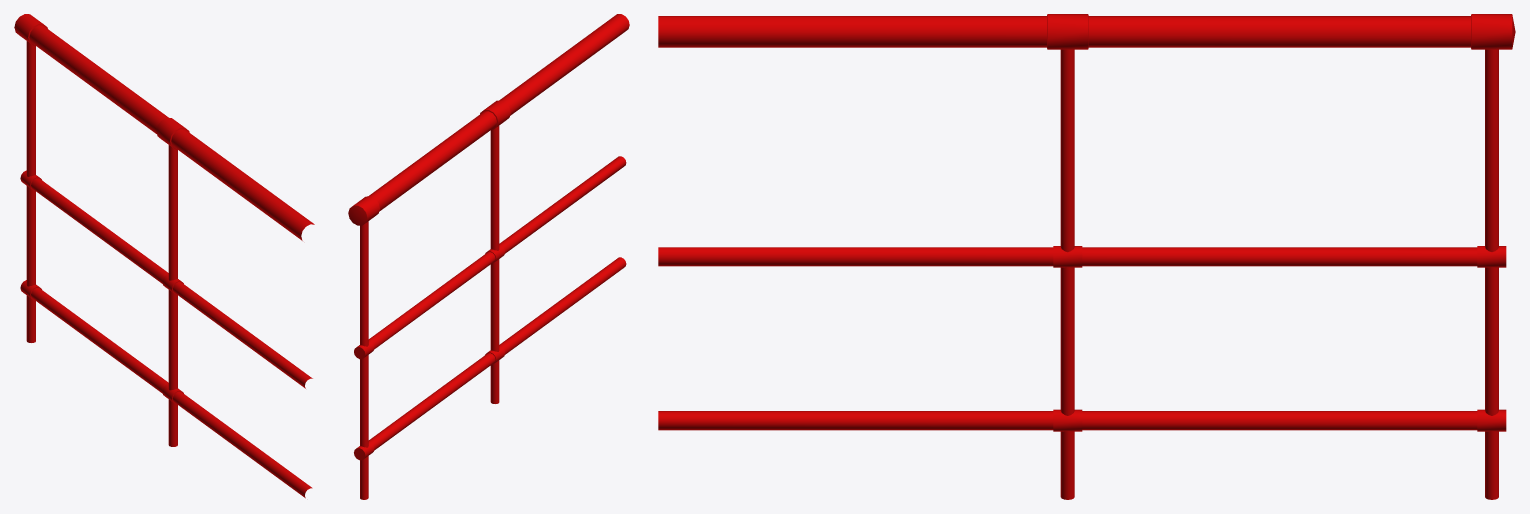
3 renders of one model, left to right at view 1: azimuth 30°, elevation 25°; view 2: azimuth 150°, elevation 25°; view 3: azimuth 270°, elevation 25°, orthographic. The views are drawn at different scales.
Parts seen in each view (by area): view 1: Mesh; view 2: Mesh; view 3: Mesh.
Part boxes in pixels (x1,y1,x2,y2): Mesh: [14, 14, 314, 498]; Mesh: [348, 14, 629, 499]; Mesh: [658, 14, 1515, 499].
Bounding box in the file's own units: 0.0863 × 1.27 × 2.06.
